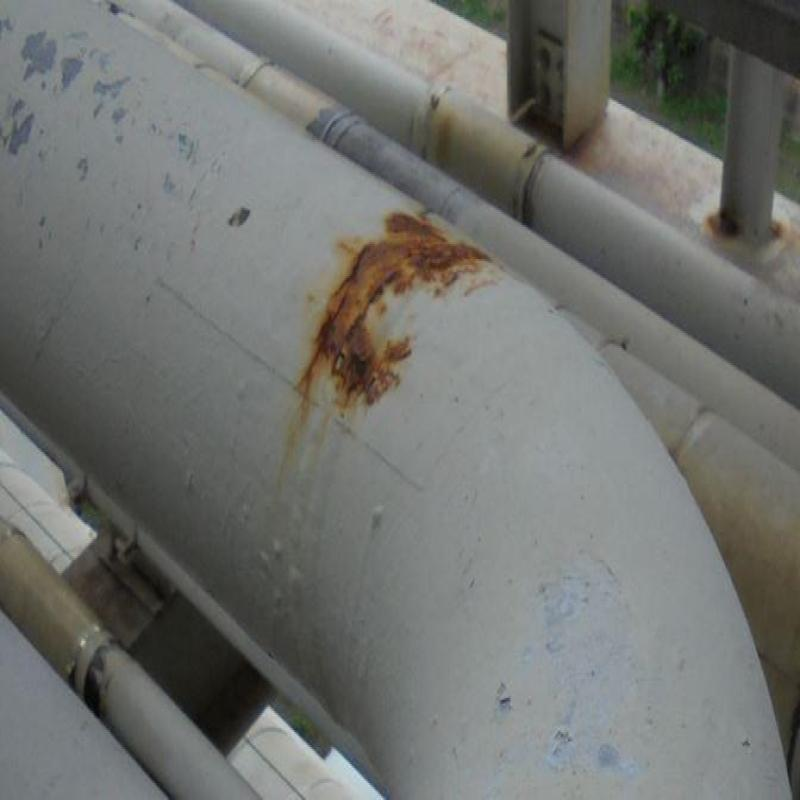corrosion: (342, 260, 374, 385), (394, 218, 454, 267)
